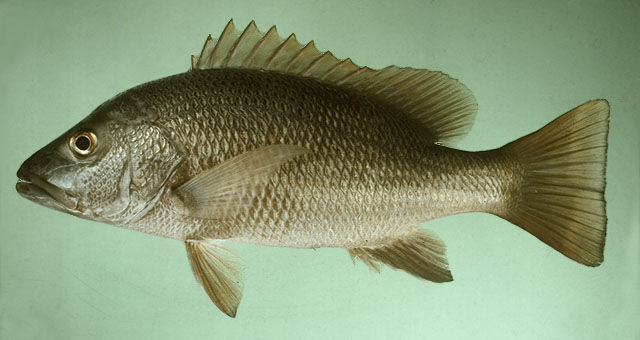fish: (15, 17, 613, 318)
